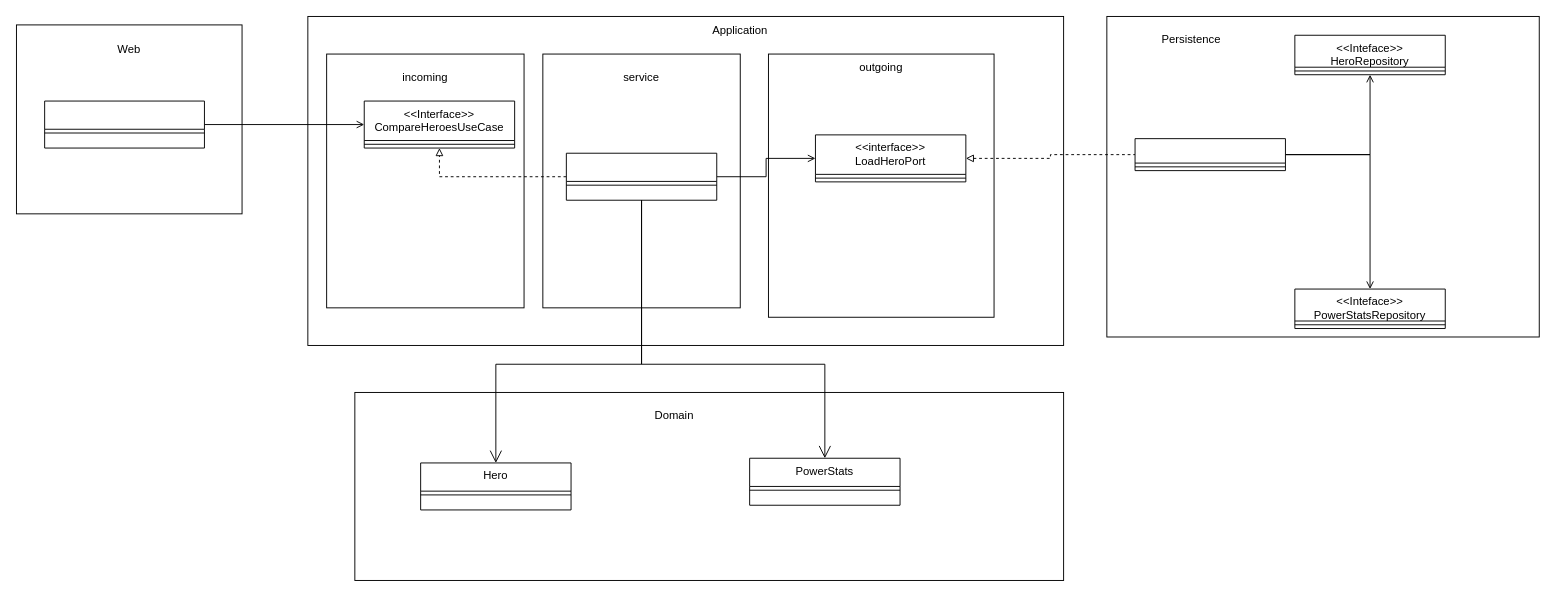
The diagram is 1556 pixels wide and 597 high, and some of its shapes have lost their labels. Here are the shapes that lost their labels. From the top down, the box of each, then its label:
(44, 100, 204, 148): CompareHeroesController
(1134, 138, 1285, 171): PersistenceAdapter
(565, 152, 717, 200): CompareHeroesService
